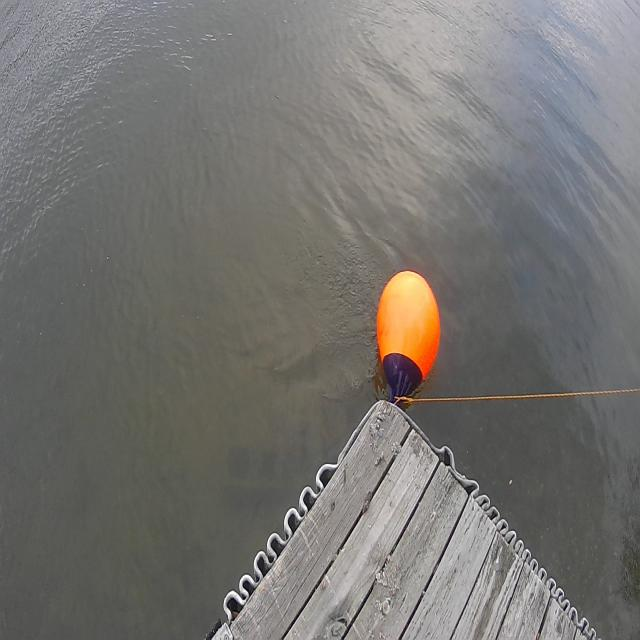Buoy: (373, 266, 444, 398)
